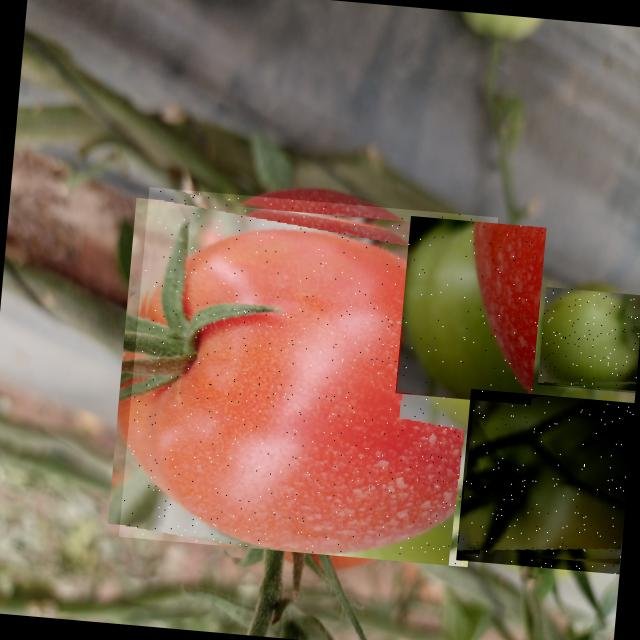Ripe Tomato: (119, 186, 498, 566)
Unripe Tomato: (456, 388, 634, 574), (395, 215, 546, 404), (537, 286, 640, 392)
